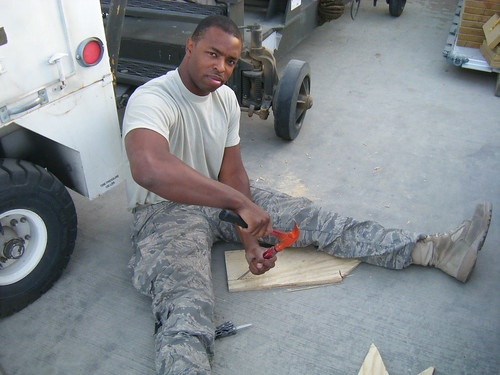hammer: (218, 206, 303, 261)
